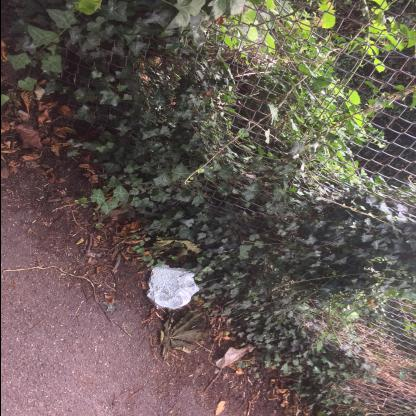metal: (146, 264, 198, 310)
